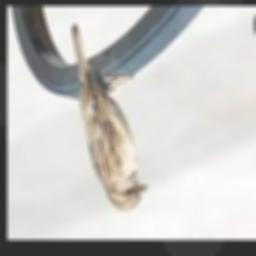Sparrow: (70, 24, 147, 211)
